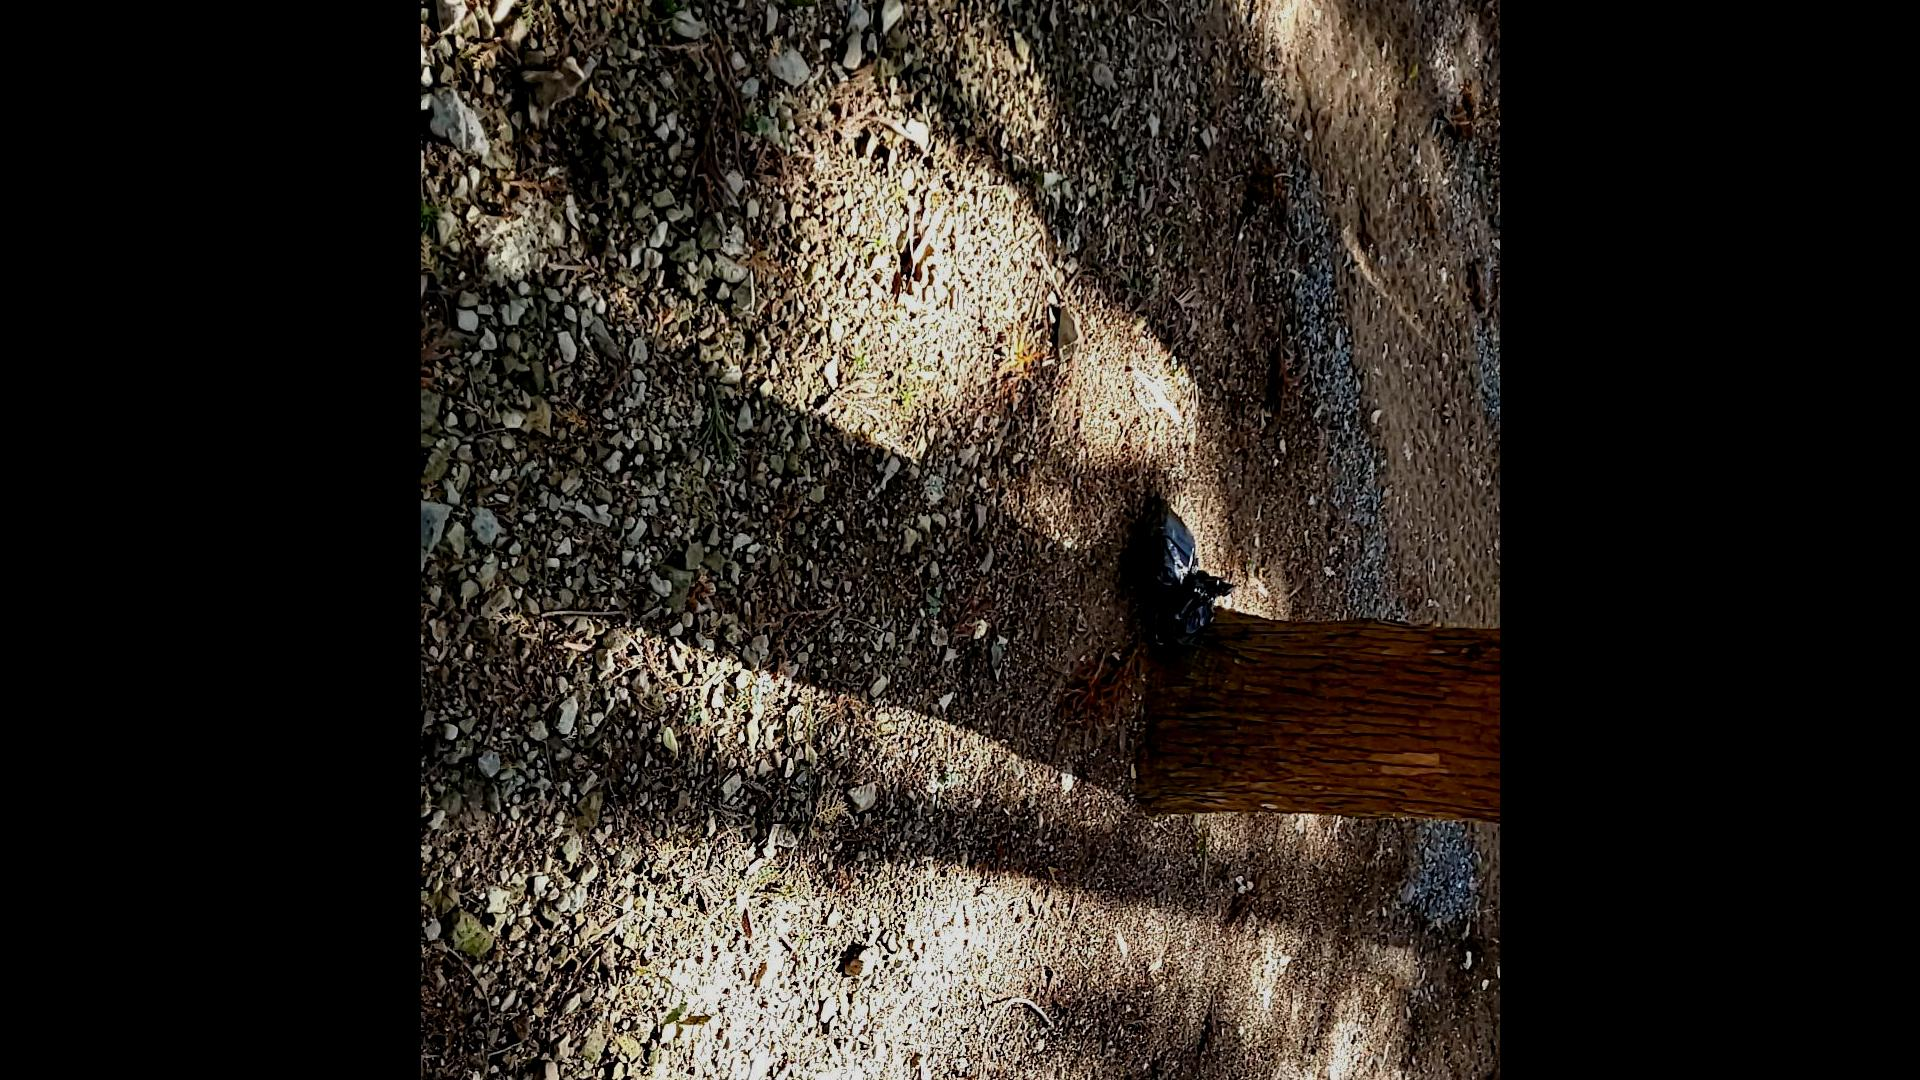black_bag: (1143, 564, 1240, 665), (1122, 484, 1203, 593)
